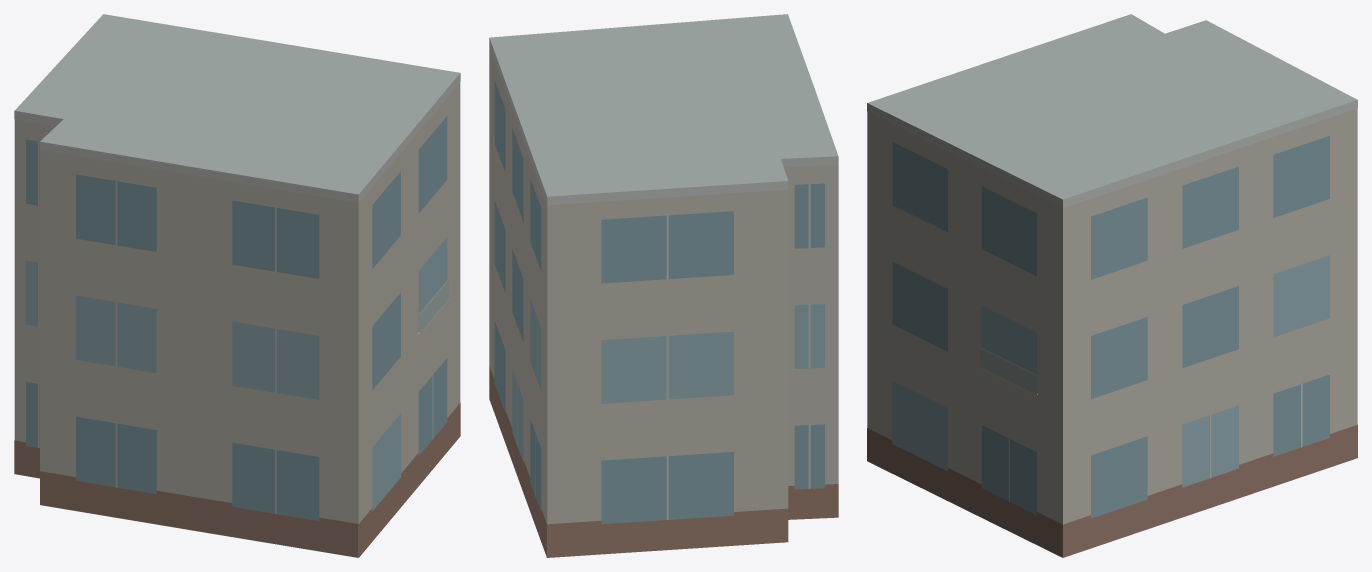
Rendered from survey-upis-32596868.glb.
The picture shows the model from 3 angles, left to right: view 1: azimuth 30°, elevation 25°; view 2: azimuth 150°, elevation 25°; view 3: azimuth 270°, elevation 25°; orthographic projection.
Parts seen in each view (by area): view 1: survey-upis-32596868.tmp; view 2: survey-upis-32596868.tmp; view 3: survey-upis-32596868.tmp.
Boxes of the visible parts, x1,y1,x2,y2 form: survey-upis-32596868.tmp: (14, 14, 460, 557); survey-upis-32596868.tmp: (489, 14, 838, 557); survey-upis-32596868.tmp: (867, 14, 1357, 557).
Bounding box in the file's own units: 11.34 × 10.2 × 12.67.
